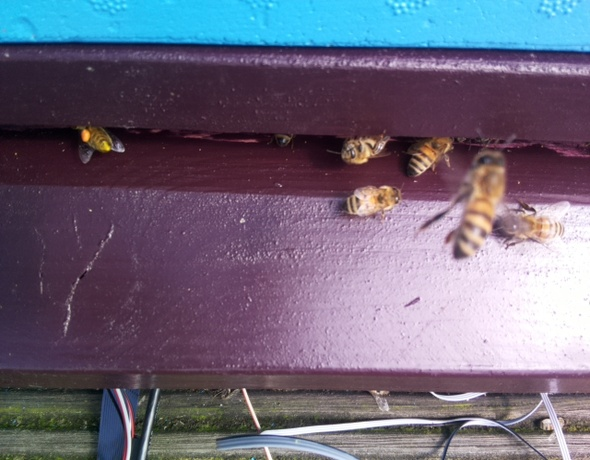no_pollen: (419, 144, 515, 264), (488, 197, 570, 254), (338, 181, 405, 222), (402, 133, 457, 180), (337, 132, 394, 166), (271, 129, 296, 149)
pollen: (67, 119, 131, 165)
